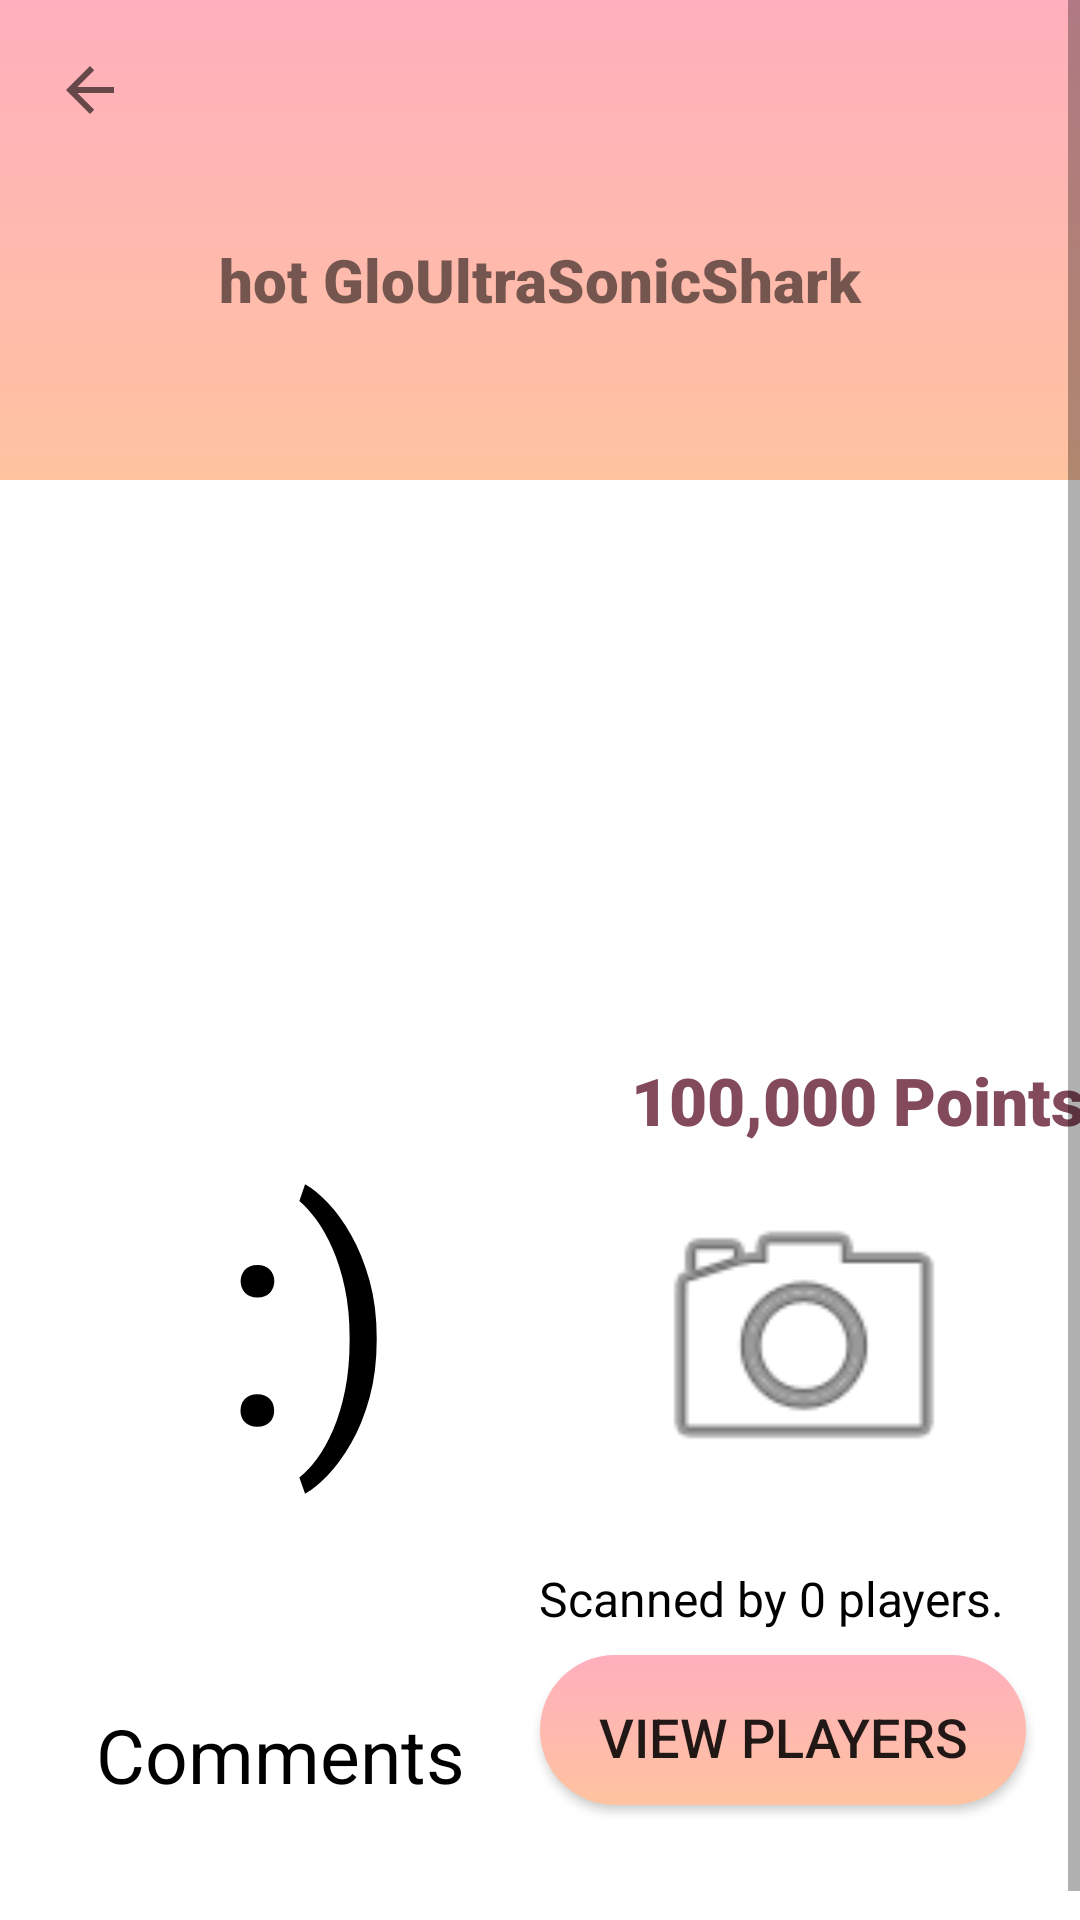

Where to tap for icons on this 1080w x 1920h app screen, as (x,y):
camera: (804,1334)
